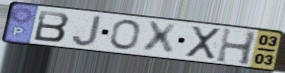B: (32, 9, 72, 44)
H: (215, 27, 260, 67)
J: (70, 14, 103, 48)
O: (109, 18, 142, 52)
X: (185, 25, 223, 61), (142, 21, 179, 56)
